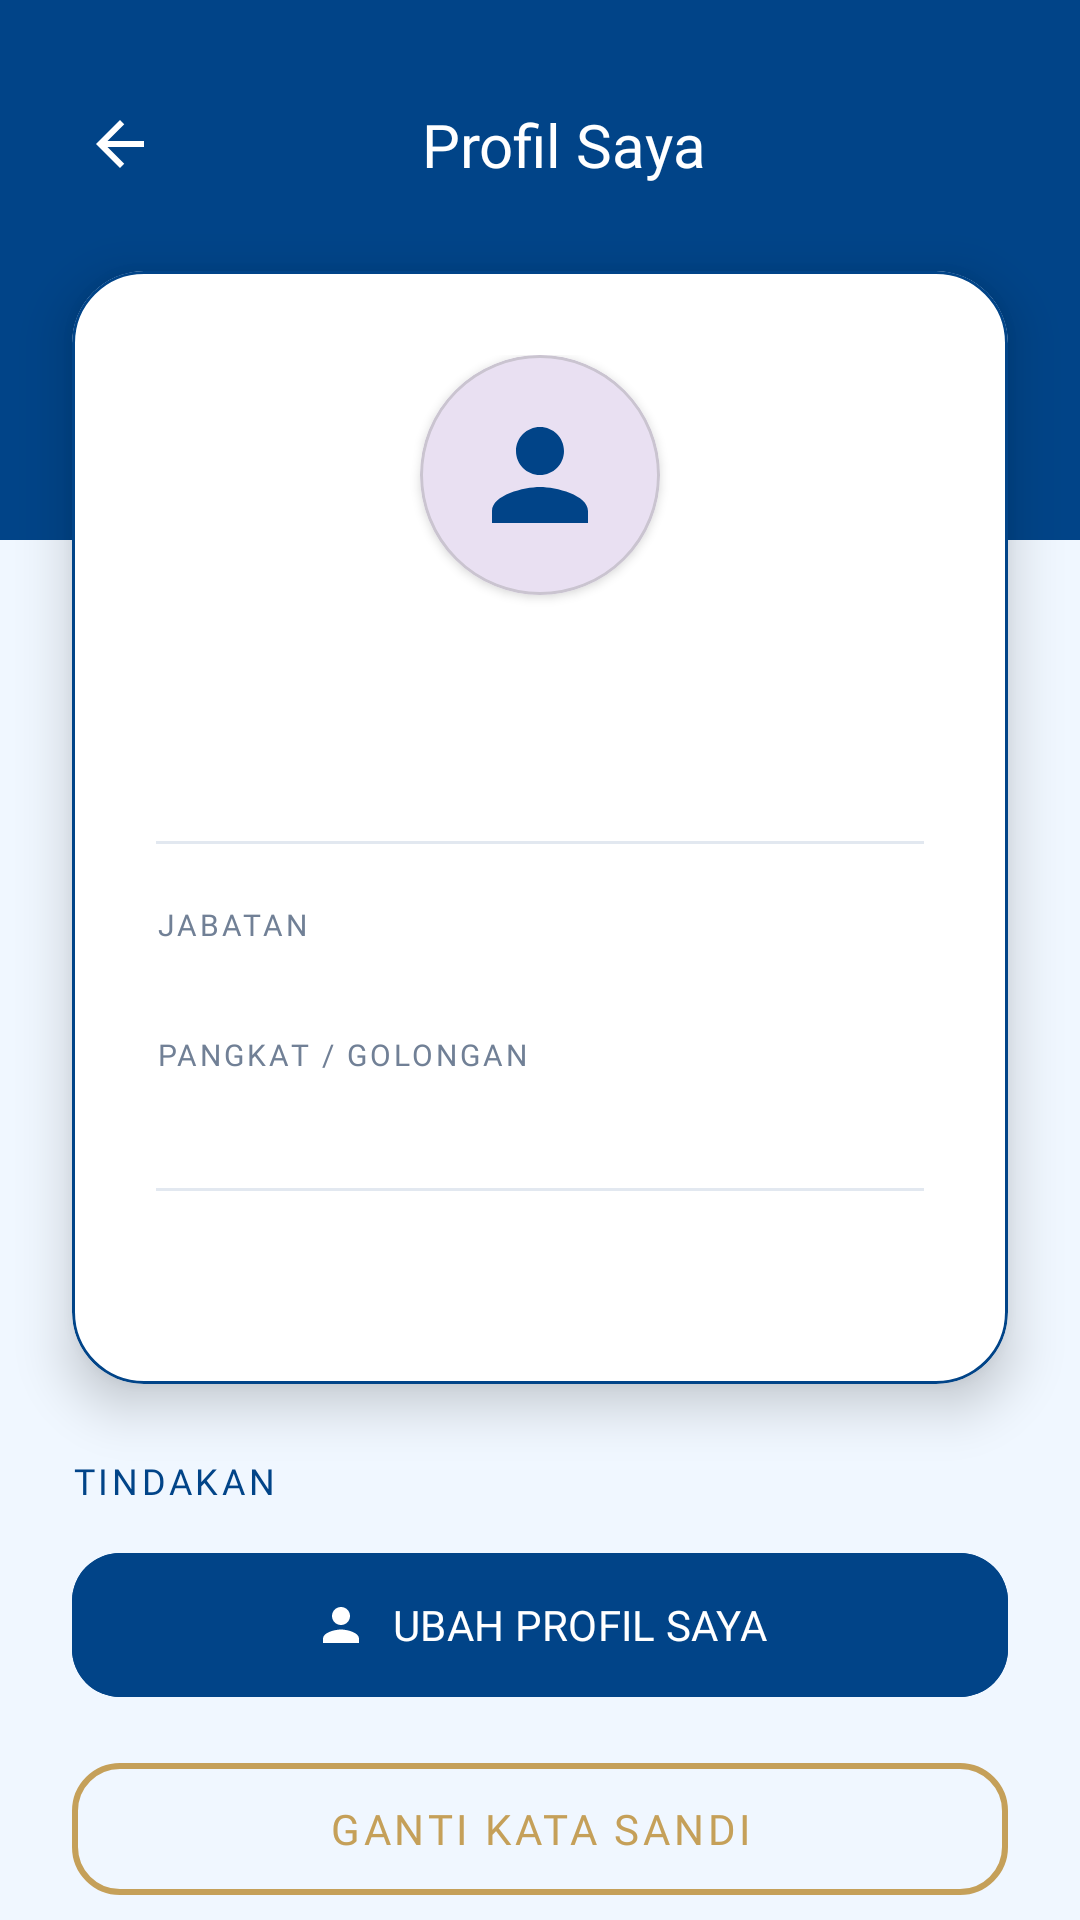

Icon click points for this 1080w x 1920h phone screenshot, format point (x, y):
arrow back: point (120, 144)
person: point (540, 475)
